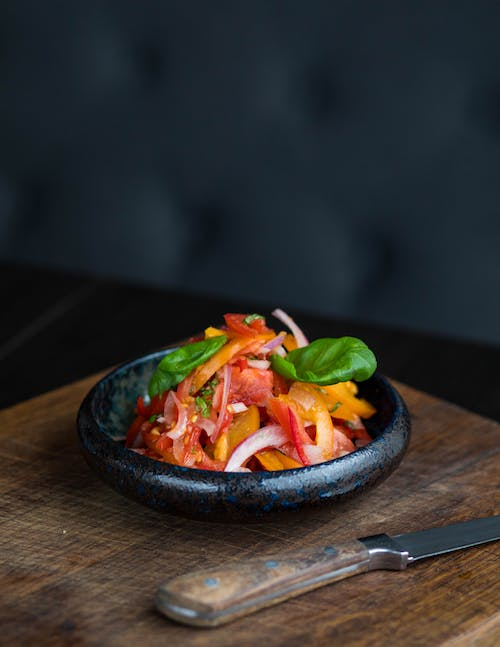knife: (151, 510, 500, 634)
